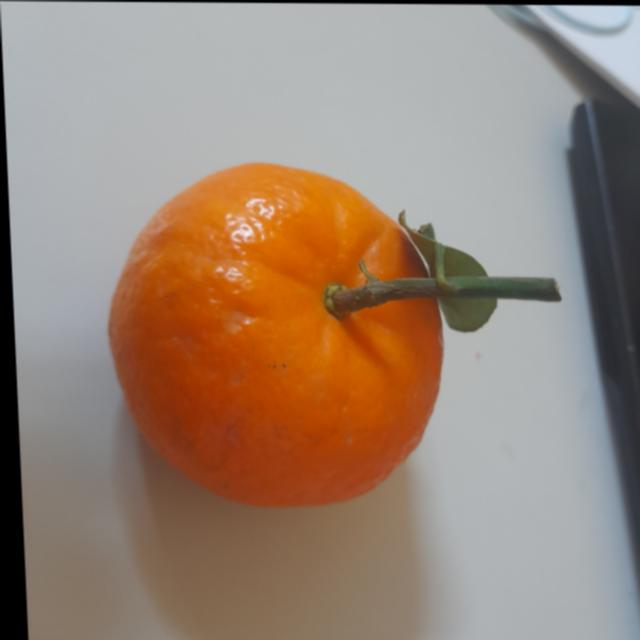Cam: (95, 156, 564, 523)
